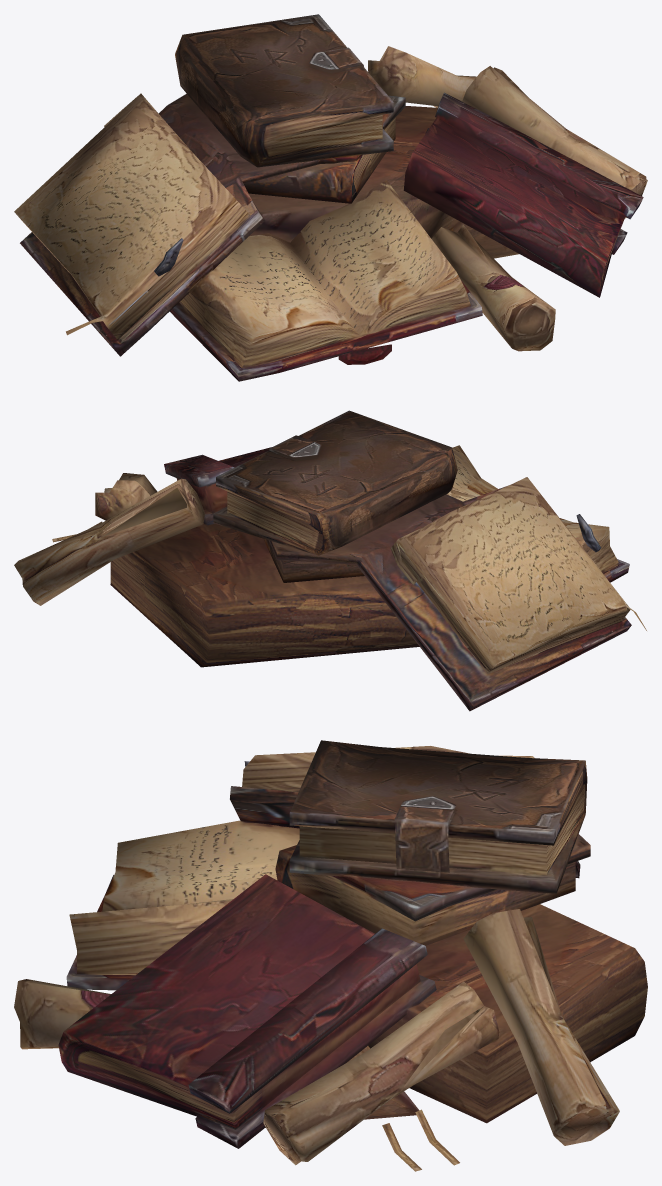
File: libri.glb
The picture shows the model from 3 angles, top to bottom: view 1: azimuth 30°, elevation 25°; view 2: azimuth 150°, elevation 25°; view 3: azimuth 270°, elevation 25°; orthographic projection. The views are drawn at different scales.
Parts seen in each view (by area): view 1: libri; view 2: libri; view 3: libri.
Part boxes in pixels (bbox=[...]): libri: bbox=[14, 14, 647, 381]; libri: bbox=[14, 410, 646, 711]; libri: bbox=[14, 740, 647, 1171].
Size of the model in its own units: 0.9995 by 0.2886 by 0.7661.
Materials: 1 (1 with a texture image).
